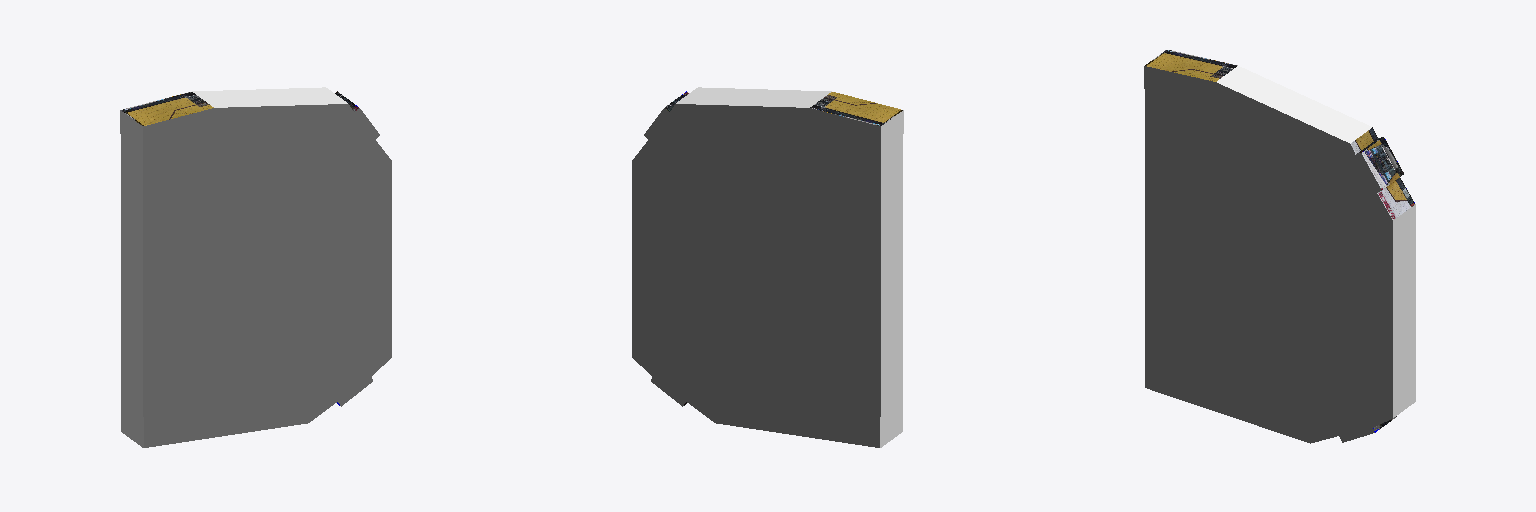
3 views of the same model, side by side, from view 1: azimuth 30°, elevation 25°; view 2: azimuth 150°, elevation 25°; view 3: azimuth 330°, elevation 25° (orthographic).
Parts seen in each view (by area): view 1: grp76, grp57, grp49, grp53; view 2: grp61, grp57, grp49, grp53; view 3: grp76, grp25, grp49, grp53, grp37, grp29.
Boxes of the visible parts, box(x1,y1,x2,y2) form: grp76: box(143, 104, 391, 447); grp57: box(120, 110, 143, 447); grp49: box(192, 87, 347, 107); grp53: box(121, 92, 213, 125); grp61: box(632, 104, 880, 447); grp57: box(880, 110, 903, 447); grp49: box(676, 87, 831, 107); grp53: box(810, 92, 902, 125); grp76: box(1144, 66, 1392, 443); grp25: box(1393, 204, 1415, 417); grp49: box(1217, 66, 1371, 143); grp53: box(1145, 50, 1237, 81); grp37: box(1362, 137, 1403, 189); grp29: box(1377, 178, 1414, 219).
Size of the model in its own units: 152 by 198 by 23.89.
Materials: 17 (11 with a texture image).